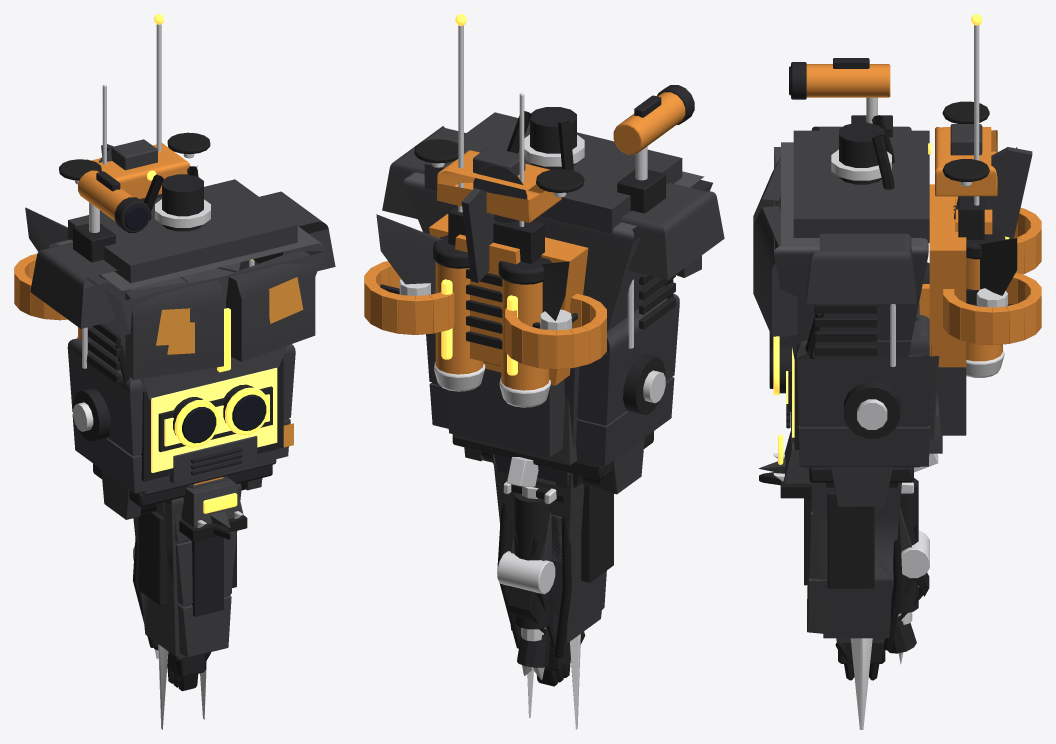
The model's file is parts.glb.
The picture shows the model from 3 angles, left to right: view 1: azimuth 30°, elevation 25°; view 2: azimuth 150°, elevation 25°; view 3: azimuth 270°, elevation 25°; orthographic projection. The views are drawn at different scales.
Visible parts, largest first — view 1: body__base__Spine, helmet__crt__Head, bionics__drone__Spine, legs__digi__LeftUpLeg, bionics__scope__Spine, helmet__visor__Head, helmet__twin__Head, legs__digi__RightUpLeg, legs__straight__RightUpLeg, boots__pads__LeftFoot, legs__straight__LeftUpLeg, body__base__Hips (+8 smaller); view 2: body__base__Spine, helmet__crt__Head, thrusters__ducted__Spine, thrusters__fins__Spine, thrusters__twin__Spine, bionics__drone__Spine, bionics__scope__Spine, bionics__antenna__Spine, legs__digi__RightUpLeg, legs__straight__RightUpLeg, arms__grapple__LeftForeArm, legs__straight__LeftUpLeg (+12 smaller); view 3: body__base__Spine, helmet__crt__Head, thrusters__ducted__Spine, legs__digi__LeftUpLeg, legs__straight__LeftUpLeg, bionics__drone__Spine, thrusters__fins__Spine, bionics__scope__Spine, legs__straight__RightUpLeg, body__base__Hips, thrusters__twin__Spine, bionics__antenna__Spine (+10 smaller).
Boxes of the visible parts, x1,y1,x2,y2 form: body__base__Spine: [30, 166, 335, 400]; helmet__crt__Head: [67, 259, 295, 493]; bionics__drone__Spine: [59, 132, 210, 199]; legs__digi__LeftUpLeg: [175, 514, 236, 657]; bionics__scope__Spine: [73, 170, 150, 262]; helmet__visor__Head: [158, 386, 272, 483]; helmet__twin__Head: [173, 384, 269, 447]; legs__digi__RightUpLeg: [133, 511, 235, 654]; legs__straight__RightUpLeg: [133, 485, 241, 656]; boots__pads__LeftFoot: [179, 477, 247, 541]; legs__straight__LeftUpLeg: [136, 483, 241, 656]; body__base__Hips: [101, 469, 262, 519]; body__base__Spine: [382, 107, 724, 385]; helmet__crt__Head: [426, 279, 679, 466]; thrusters__ducted__Spine: [364, 261, 606, 369]; thrusters__fins__Spine: [376, 188, 569, 365]; thrusters__twin__Spine: [433, 235, 551, 407]; bionics__drone__Spine: [414, 139, 584, 222]; bionics__scope__Spine: [613, 85, 694, 213]; bionics__antenna__Spine: [448, 14, 544, 263]; legs__digi__RightUpLeg: [495, 455, 613, 658]; legs__straight__RightUpLeg: [493, 454, 605, 643]; arms__grapple__LeftForeArm: [507, 492, 562, 680]; legs__straight__LeftUpLeg: [493, 456, 604, 643]; body__base__Spine: [753, 115, 966, 367]; helmet__crt__Head: [792, 262, 966, 466]; thrusters__ducted__Spine: [943, 208, 1041, 345]; legs__digi__LeftUpLeg: [807, 486, 902, 650]; legs__straight__LeftUpLeg: [804, 482, 901, 638]; bionics__drone__Spine: [928, 101, 997, 196]; thrusters__fins__Spine: [954, 147, 1032, 295]; bionics__scope__Spine: [789, 58, 892, 137]; legs__straight__RightUpLeg: [804, 482, 901, 638]; body__base__Hips: [825, 466, 897, 508]; thrusters__twin__Spine: [953, 205, 1009, 377]; bionics__antenna__Spine: [958, 14, 984, 239].
Bounding box in the file's own units: 0.61 × 1.52 × 0.552.
